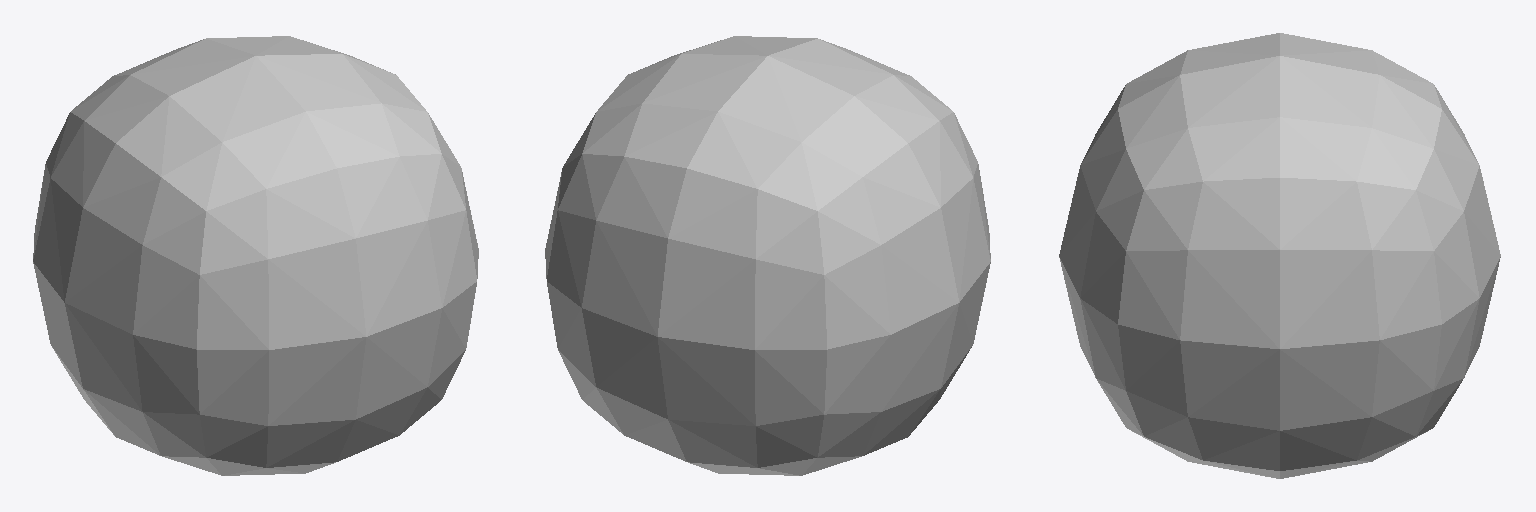
The model's file is Skybox.obj.
The picture shows the model from 3 angles: view 1: azimuth 30°, elevation 25°; view 2: azimuth 150°, elevation 25°; view 3: azimuth 270°, elevation 25°; orthographic projection.
Parts seen in each view (by area): view 1: Cube; view 2: Cube; view 3: Cube.
Part boxes in pixels (left/top/right/bottom): Cube: left=33, top=36, right=478, bottom=475; Cube: left=545, top=36, right=990, bottom=475; Cube: left=1059, top=33, right=1500, bottom=478.
Bounding box in the file's own units: 192 × 192 × 192.